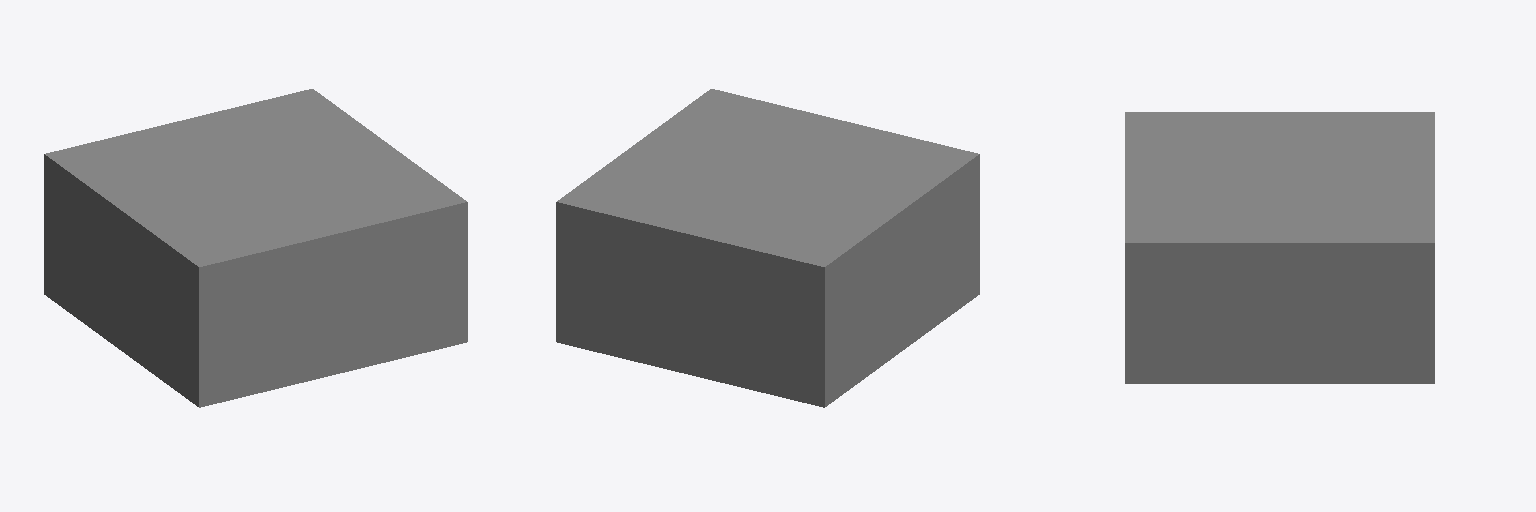
Rendered from indirect-test_tex.obj.
3 views of the same model, side by side, from view 1: azimuth 30°, elevation 25°; view 2: azimuth 150°, elevation 25°; view 3: azimuth 270°, elevation 25° (orthographic).
Parts seen in each view (by area): view 1: Box001; view 2: Box001; view 3: Box001.
Part boxes in pixels (left/top/right/bottom): Box001: left=44, top=89, right=467, bottom=407; Box001: left=556, top=89, right=979, bottom=407; Box001: left=1125, top=112, right=1434, bottom=383.
Bounding box in the file's own units: 2 × 1.11 × 2.